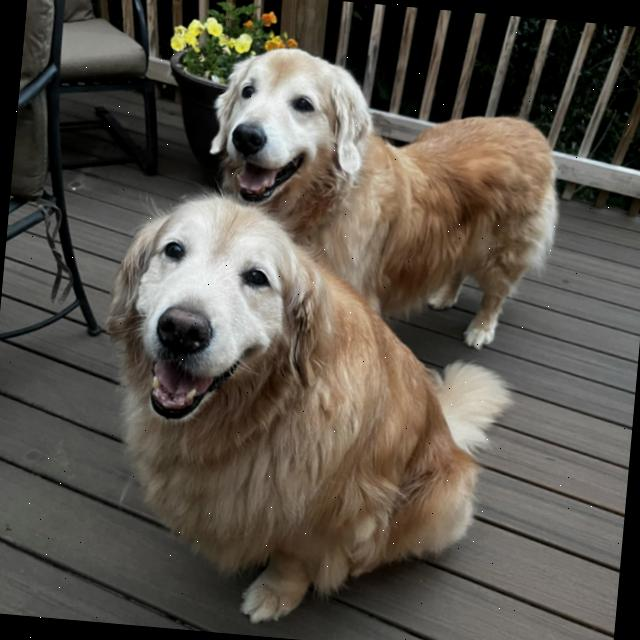golden_retriever_dog: (92, 197, 338, 445), (196, 31, 380, 228)
